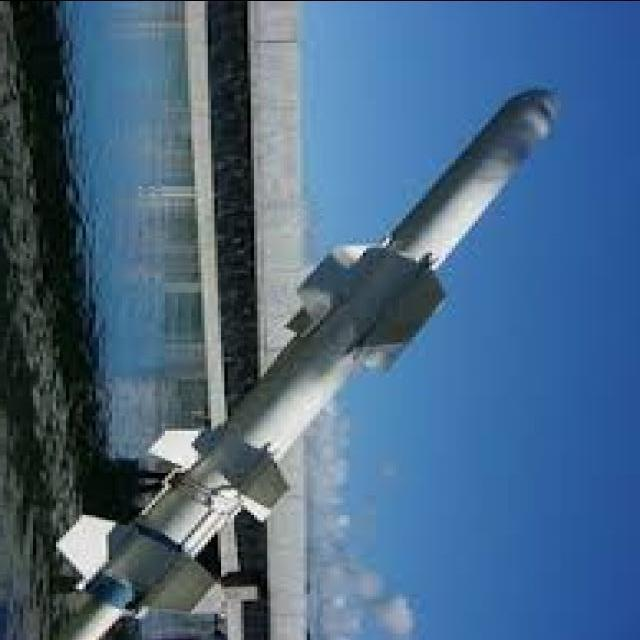missile: (53, 83, 561, 640)
